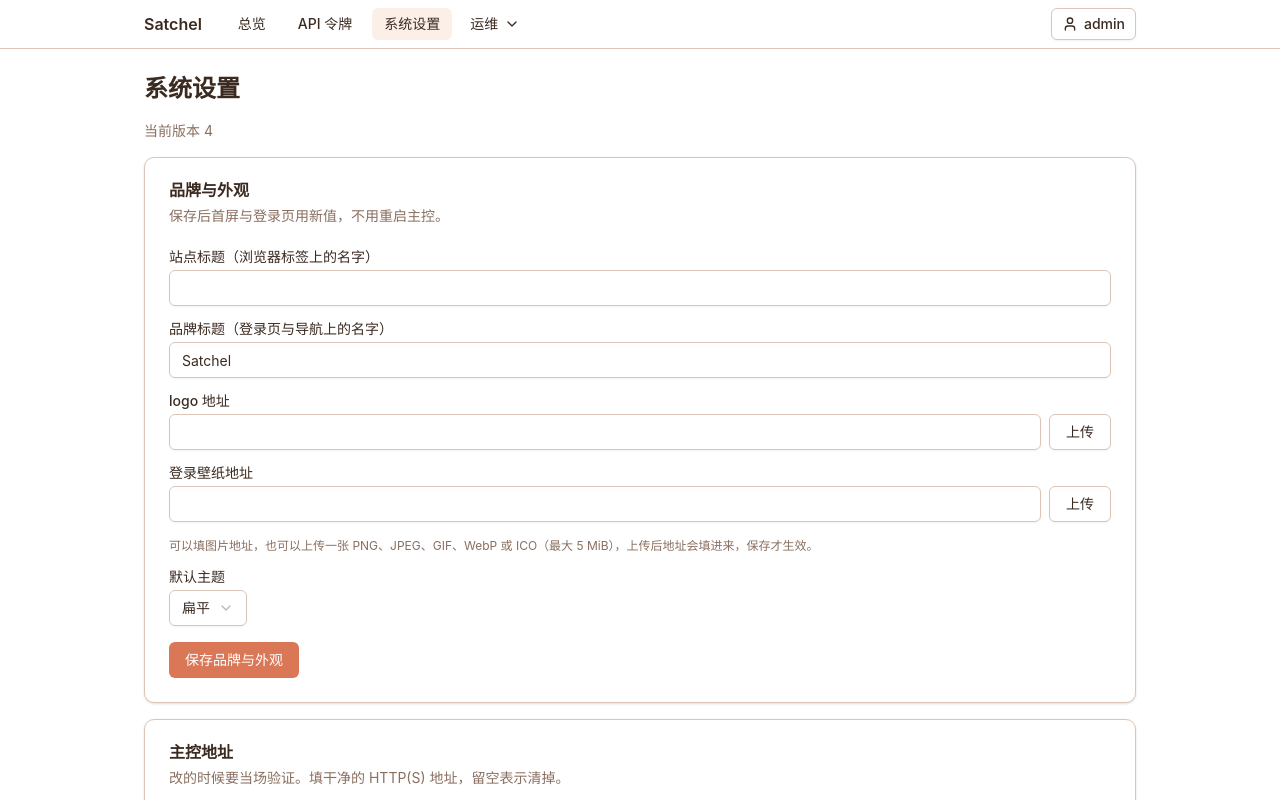
系统设置页 › 后端的错误原样显示：logo 地址不合规时显示主控的 reason
In the field labelled "logo 地址": (605, 432) [169,414,1041,450], type "javascript:alert(1)"
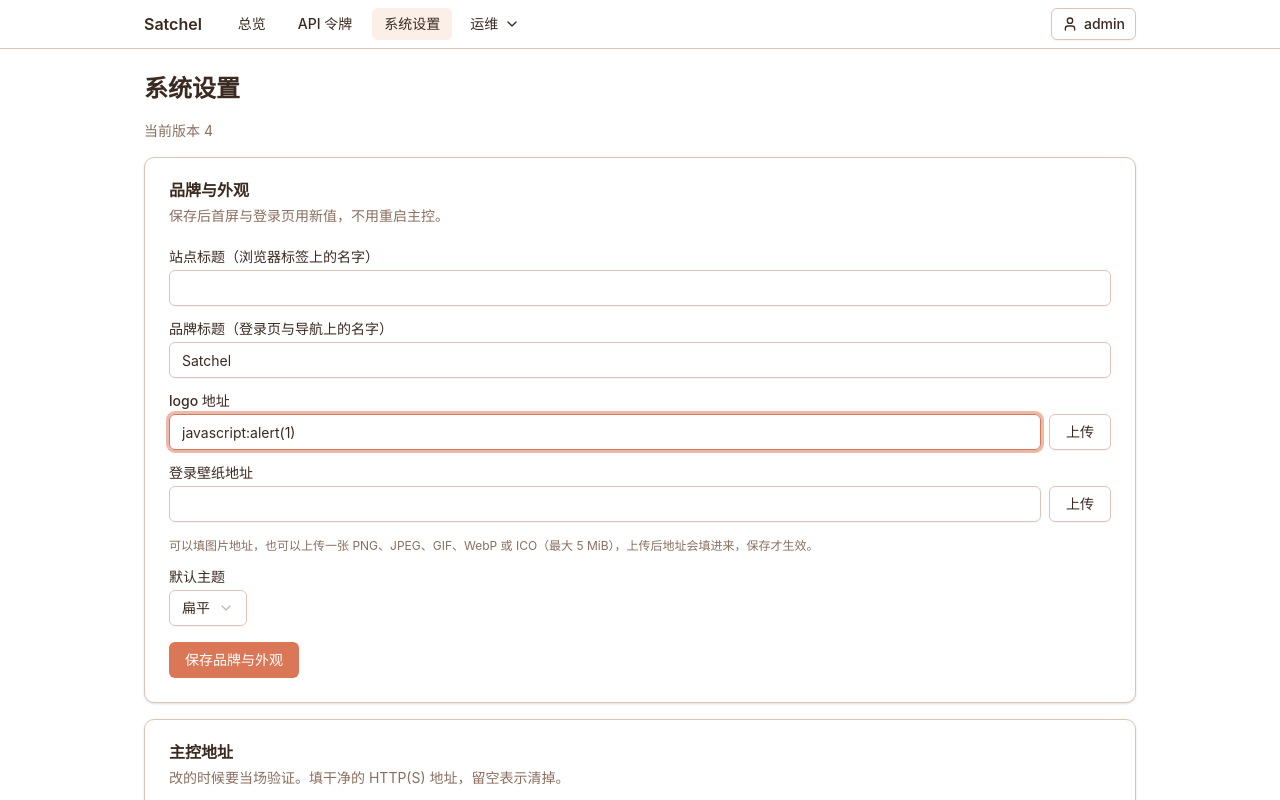
Click the button "保存品牌与外观": (234, 660) [169,642,299,678]
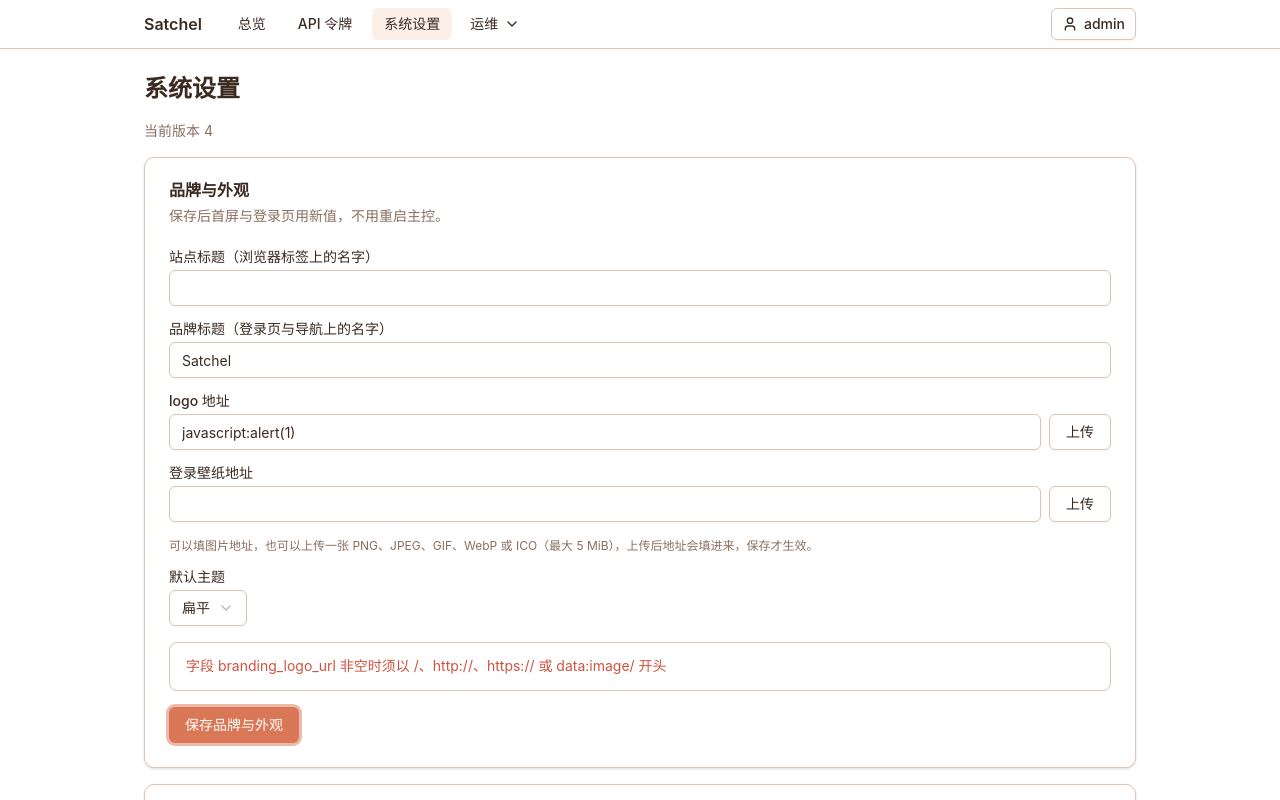
Check: the text "当前版本 4" is shown, box [144,122,213,139]
Check: the text "字段 branding_logo_url 非空时须以 /、http://、https:// 或 d ata:image/ 开头" is shown, box [186,655,667,678]
